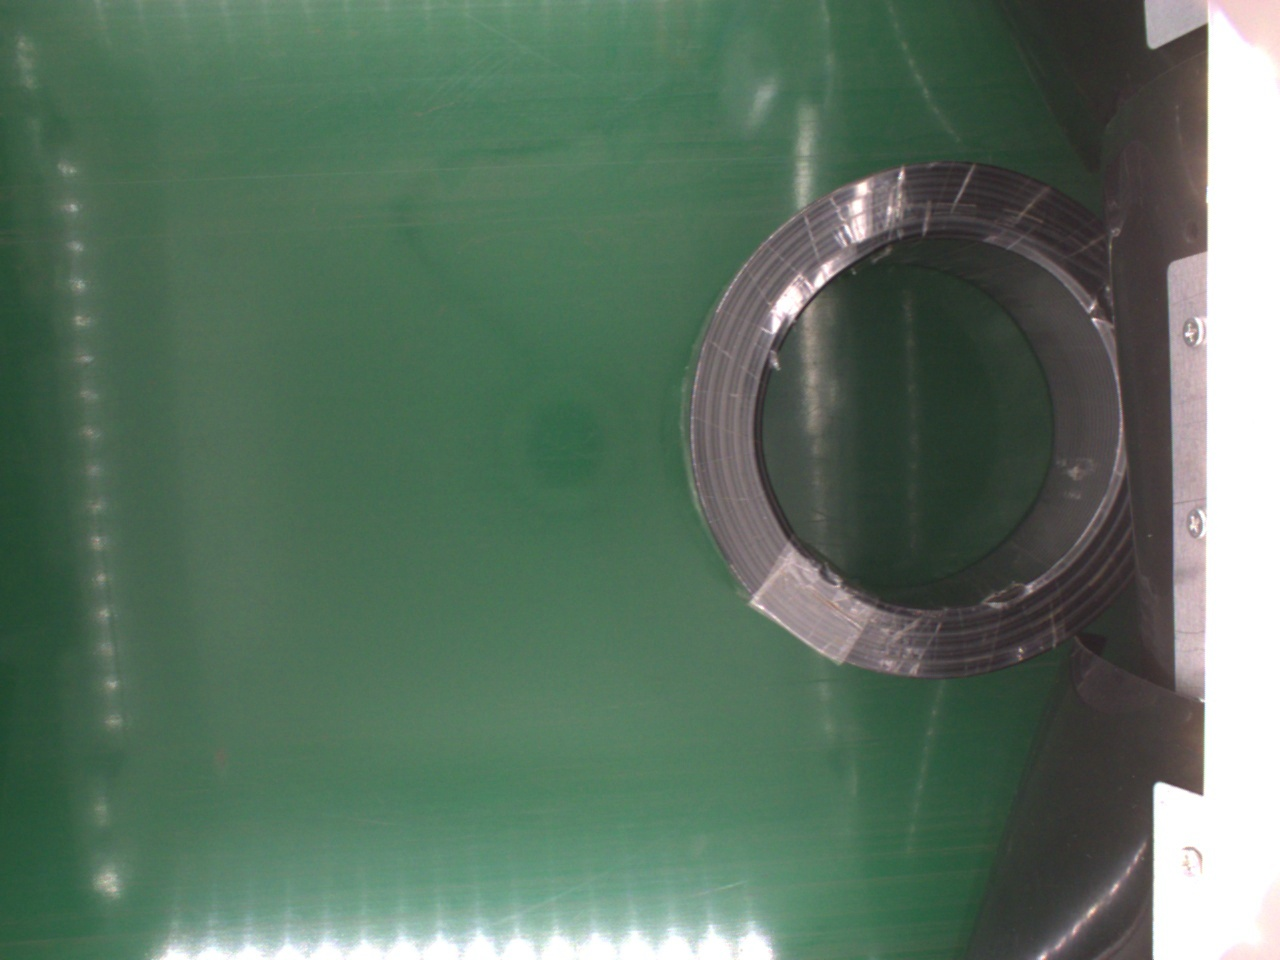black: (679, 157, 1118, 684)
